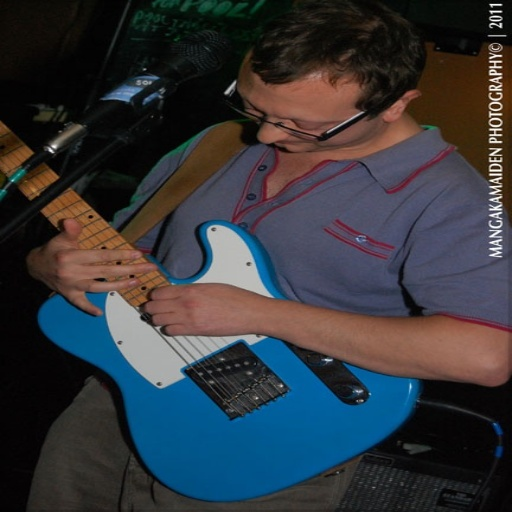hand: (22, 230, 173, 301), (138, 279, 264, 337)
